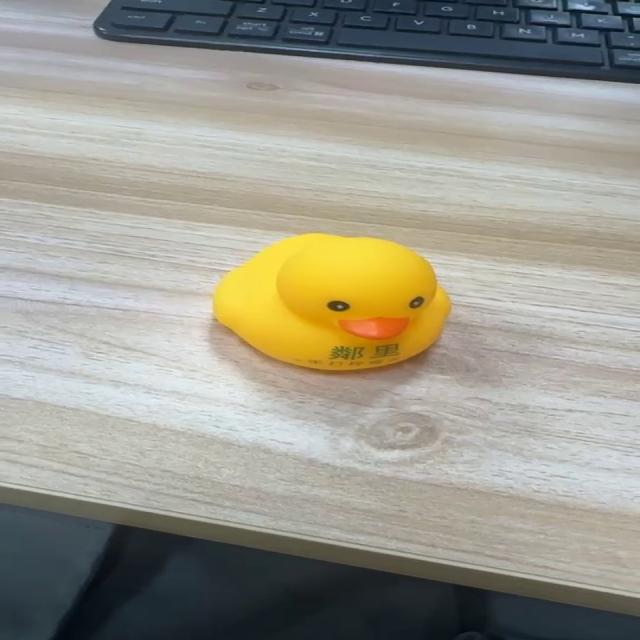yellow_duck: (210, 232, 453, 372)
